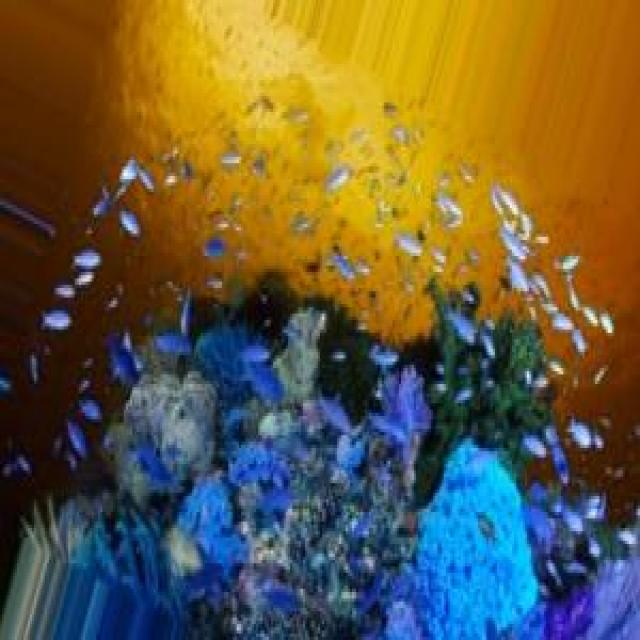Healthy: (177, 309, 432, 640), (419, 444, 539, 640), (120, 372, 217, 507)
